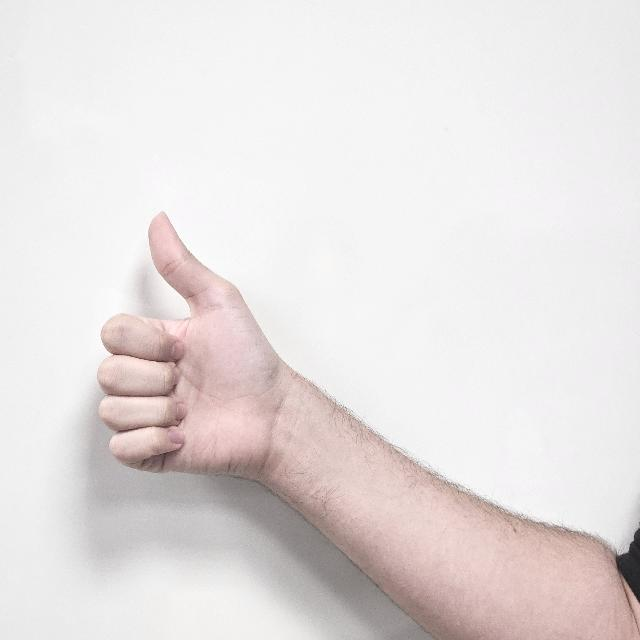Start: (98, 212, 280, 504)
